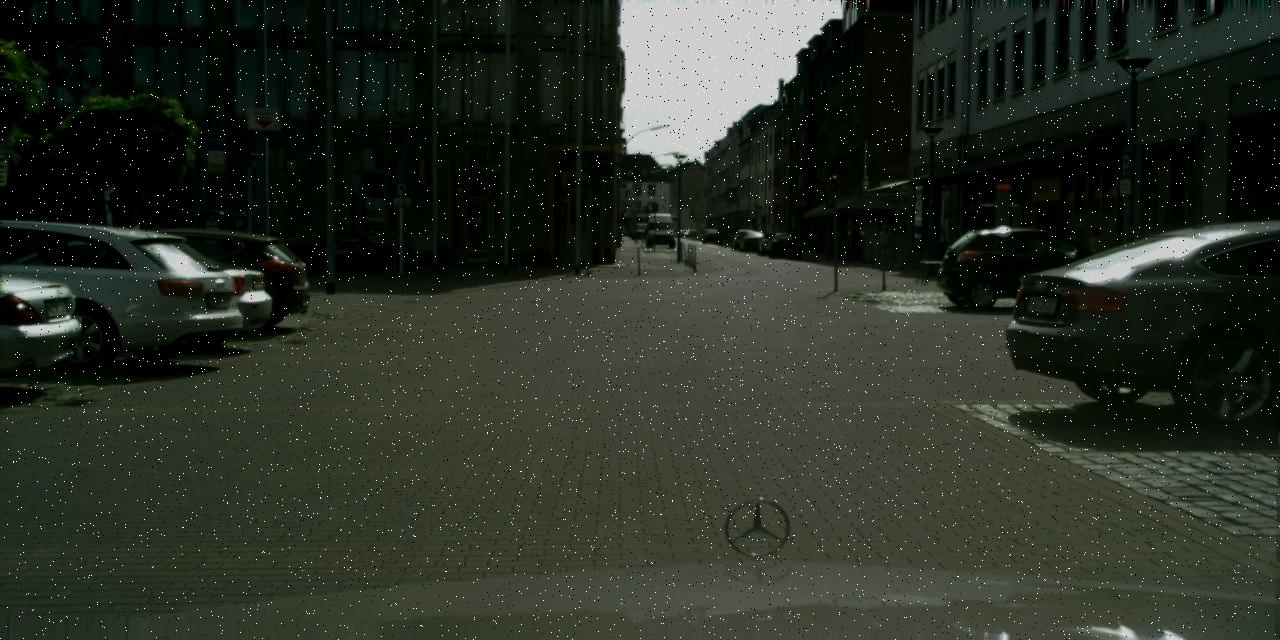ped: (876, 224, 894, 270), (846, 224, 862, 263)
